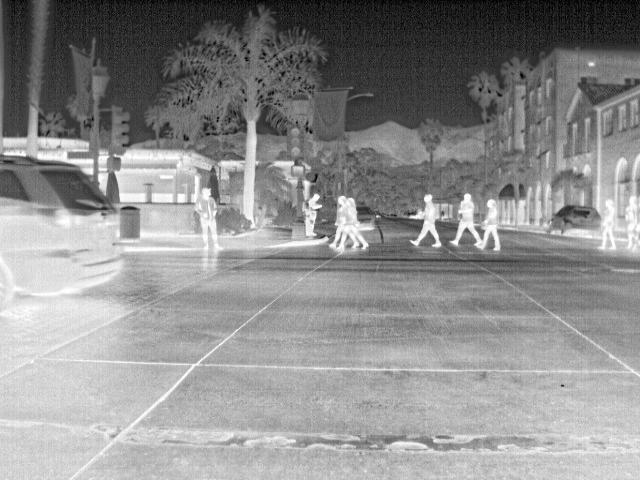car: (1, 154, 127, 311), (549, 204, 600, 238), (358, 205, 381, 230)
person: (408, 192, 444, 250), (194, 185, 224, 250), (334, 197, 368, 252), (449, 190, 480, 248), (478, 196, 504, 255), (598, 199, 619, 253), (622, 195, 640, 249), (305, 192, 324, 241)
